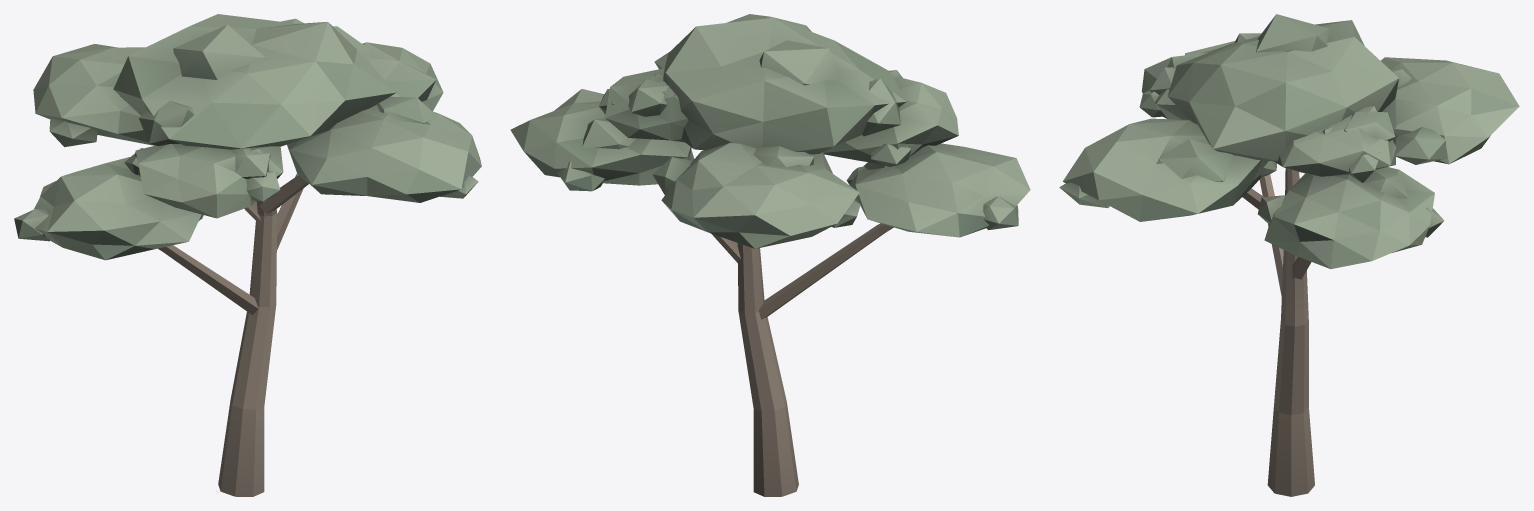
Rendered from pine.glb.
3 renders of one model, left to right at view 1: azimuth 30°, elevation 25°; view 2: azimuth 150°, elevation 25°; view 3: azimuth 270°, elevation 25°, orthographic.
Bounding box in the file's own units: 7.61 × 7.13 × 6.6.
